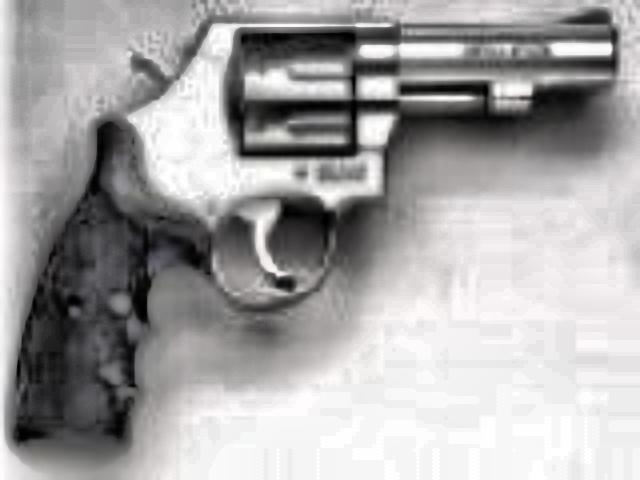pistol: (4, 8, 608, 448)
